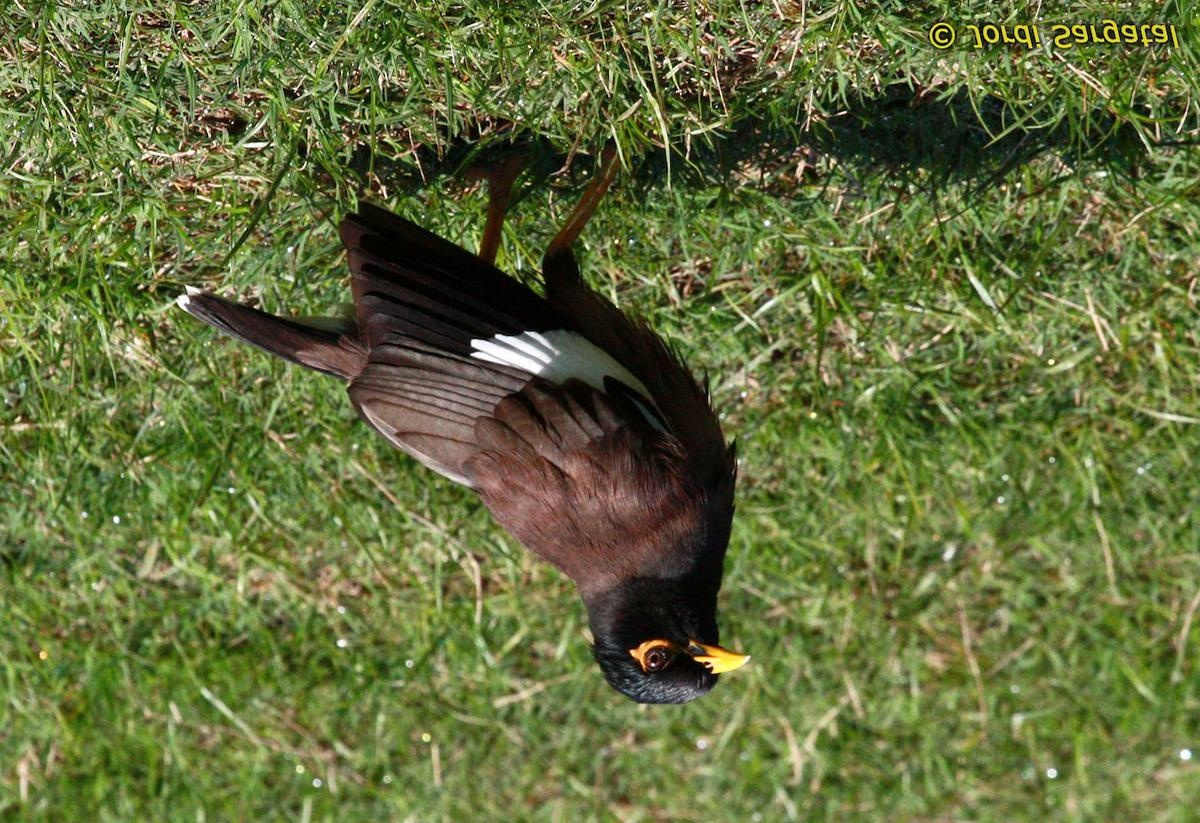myna: (278, 131, 796, 737)
